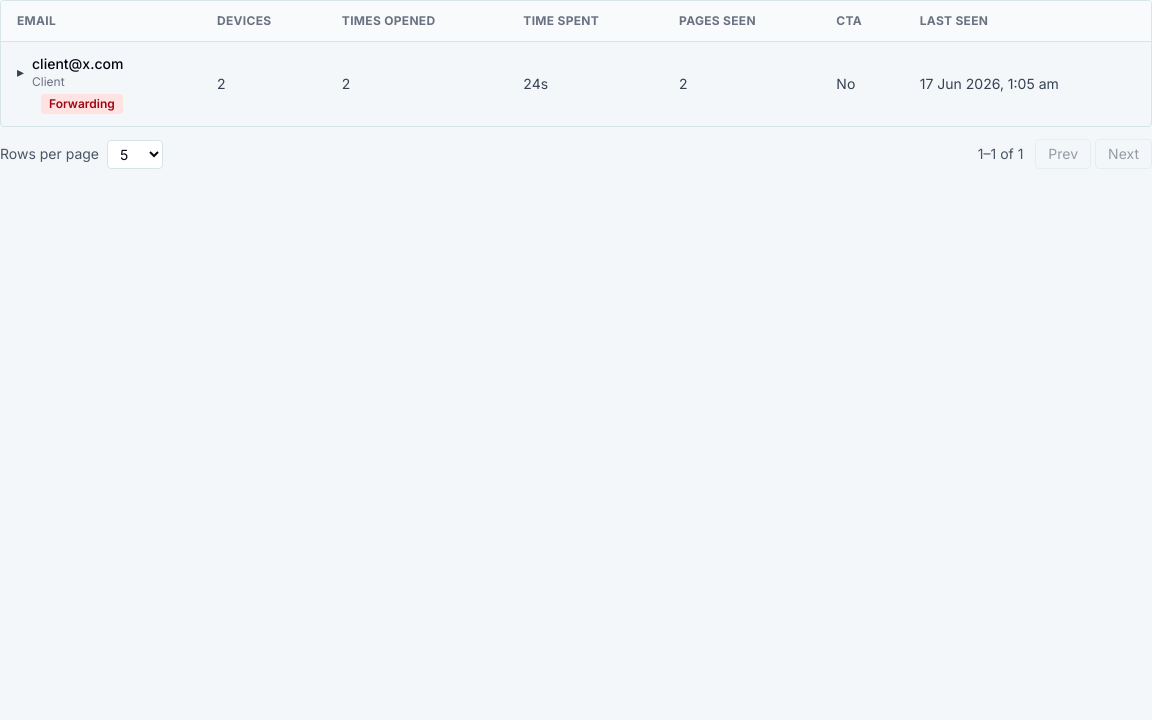
Scenario: ViewerAnalyticsTable (gated) › renders one row per email with a forwarding badge and expands to devices
The width and height of the screenshot is (1152, 720).
Expected: the text "client@x.com" is shown, [32,55,123,72]
Expected: the text "Forwarding" is shown, [41,94,123,114]
Click the button with aria-label "expand client@x.com". click: {"x": 70, "y": 72}
box: [17,54,123,90]
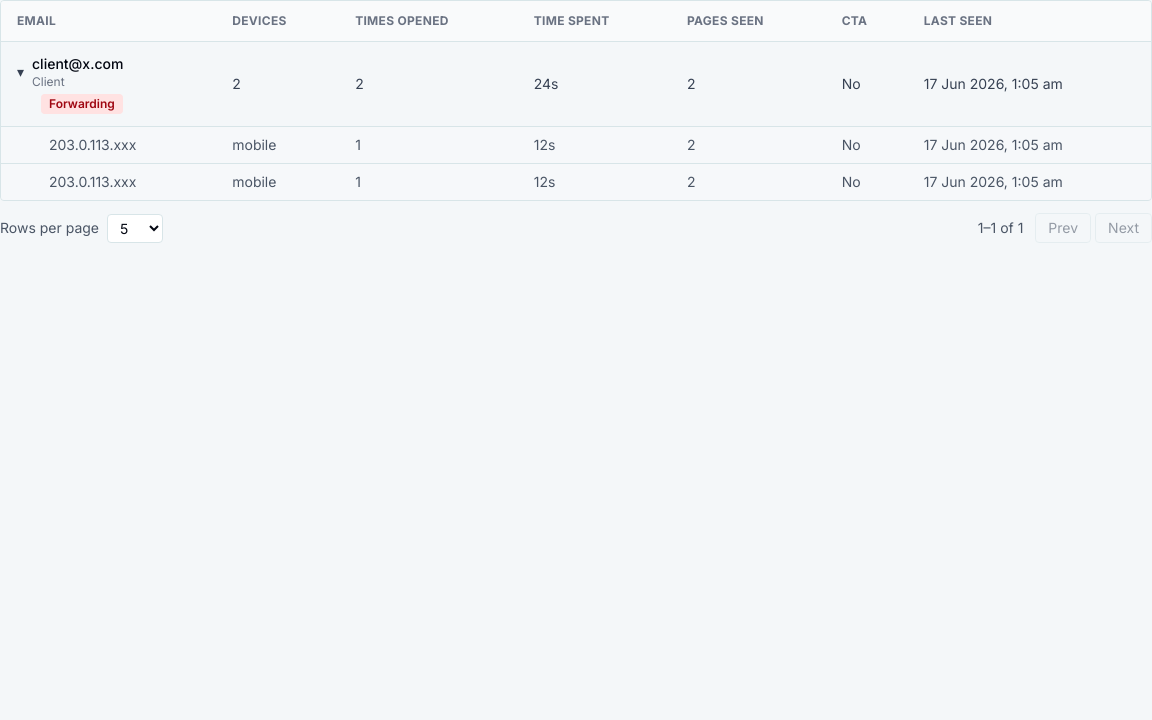
Expected: the number of buttons named "view per-page breakdown" is 2
Click the button with aria-label "view per-page breakdown". click: {"x": 93, "y": 144}
box: [1,126,1151,164]
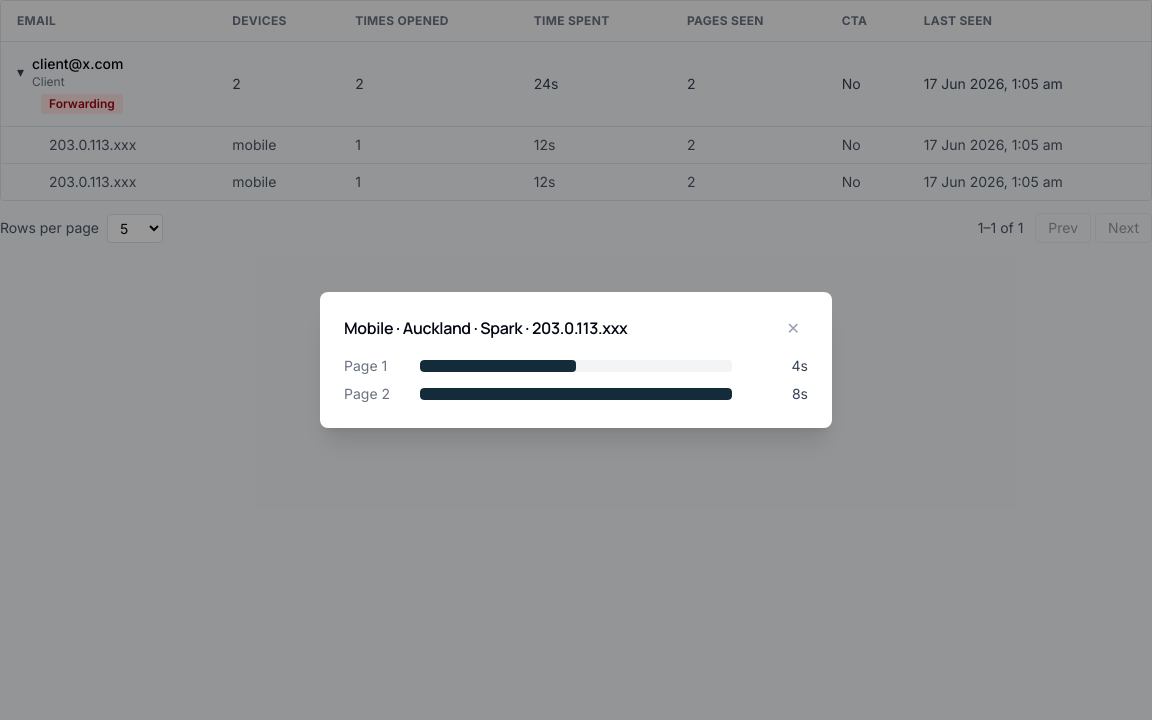
Expected: the dialog named "per-page time" is shown
